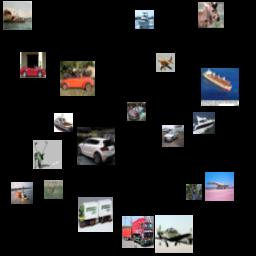airplane: (155, 215, 193, 253), (205, 172, 234, 201), (156, 53, 175, 72)
automobile: (77, 127, 115, 165), (60, 61, 95, 96), (20, 52, 46, 78), (162, 125, 184, 147), (127, 102, 146, 121)
bird: (186, 184, 202, 200)
deer: (33, 140, 62, 169), (198, 2, 224, 28), (44, 180, 63, 199)
ship: (201, 68, 239, 106), (3, 1, 32, 30), (193, 112, 215, 134), (11, 182, 33, 204), (54, 113, 73, 132), (135, 10, 154, 29)
truck: (78, 197, 113, 232), (122, 216, 154, 248)
